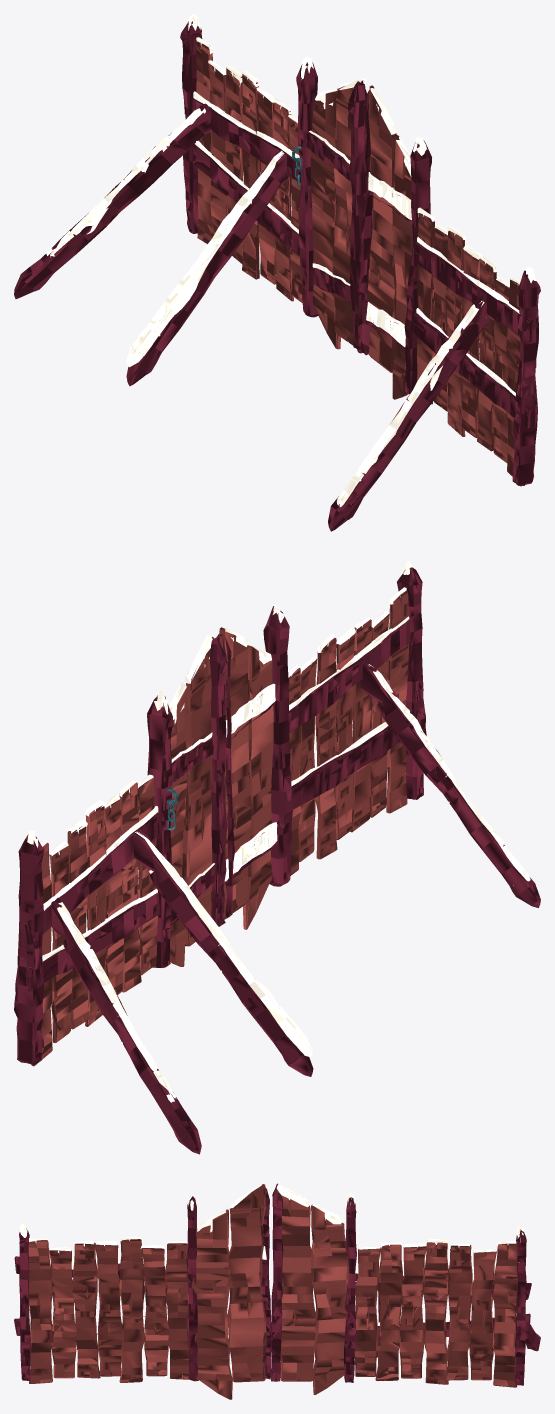
Rendered from GatesAsset.fbx.
The picture shows the model from 3 angles, top to bottom: view 1: azimuth 30°, elevation 25°; view 2: azimuth 150°, elevation 25°; view 3: azimuth 270°, elevation 25°; orthographic projection. The views are drawn at different scales.
Parts seen in each view (by area): view 1: Wallls, GateDoor1, GateDoor2; view 2: Wallls, GateDoor1, GateDoor2; view 3: Wallls, GateDoor1, GateDoor2.
Boxes of the visible parts, x1=… form: Wallls: x1=14, y1=14, x2=540, y2=531; GateDoor1: x1=306, y1=78, x2=368, y2=353; GateDoor2: x1=358, y1=85, x2=413, y2=399; Wallls: x1=14, y1=560, x2=540, y2=1154; GateDoor1: x1=169, y1=634, x2=227, y2=966; GateDoor2: x1=217, y1=627, x2=277, y2=929; Wallls: x1=14, y1=1192, x2=540, y2=1387; GateDoor1: x1=271, y1=1183, x2=349, y2=1394; GateDoor2: x1=191, y1=1184, x2=271, y2=1399.
Bounding box in the file's own units: 731 × 1227 × 2532.
